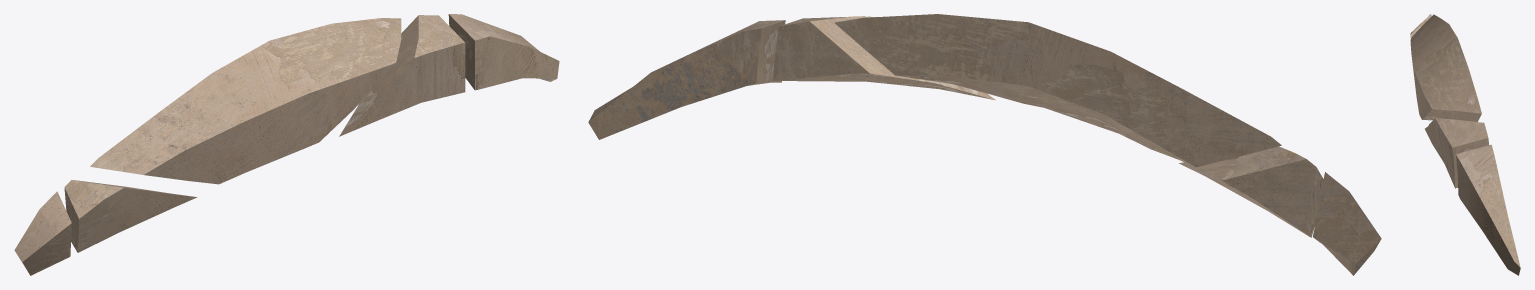
The model's file is eyeBrow2-R-Broken.fbx.
3 renders of one model, left to right at view 1: azimuth 30°, elevation 25°; view 2: azimuth 150°, elevation 25°; view 3: azimuth 270°, elevation 25°, orthographic. The views are drawn at different scales.
Parts seen in each view (by area): view 1: eyebrow-R.002, eyebrow-R.004, eyebrow-R.003, eyebrow-R.005, eyebrow-R.001; view 2: eyebrow-R.002, eyebrow-R.005, eyebrow-R.004, eyebrow-R.003, eyebrow-R.001; view 3: eyebrow-R.002, eyebrow-R.005, eyebrow-R.004, eyebrow-R.003.
Part boxes in pixels (x1,y1,x2,y2): eyebrow-R.002: [90, 18, 401, 184]; eyebrow-R.004: [339, 15, 465, 136]; eyebrow-R.003: [64, 180, 197, 252]; eyebrow-R.005: [448, 14, 559, 90]; eyebrow-R.001: [14, 191, 71, 275]; eyebrow-R.002: [834, 14, 1281, 167]; eyebrow-R.005: [588, 20, 785, 139]; eyebrow-R.004: [773, 16, 995, 100]; eyebrow-R.003: [1179, 146, 1323, 237]; eyebrow-R.001: [1312, 172, 1381, 275]; eyebrow-R.002: [1410, 14, 1481, 121]; eyebrow-R.005: [1456, 144, 1520, 275]; eyebrow-R.004: [1425, 118, 1488, 188]; eyebrow-R.003: [1410, 14, 1431, 39].
Bounding box in the file's own units: 3.9 × 0.9969 × 0.7911.
